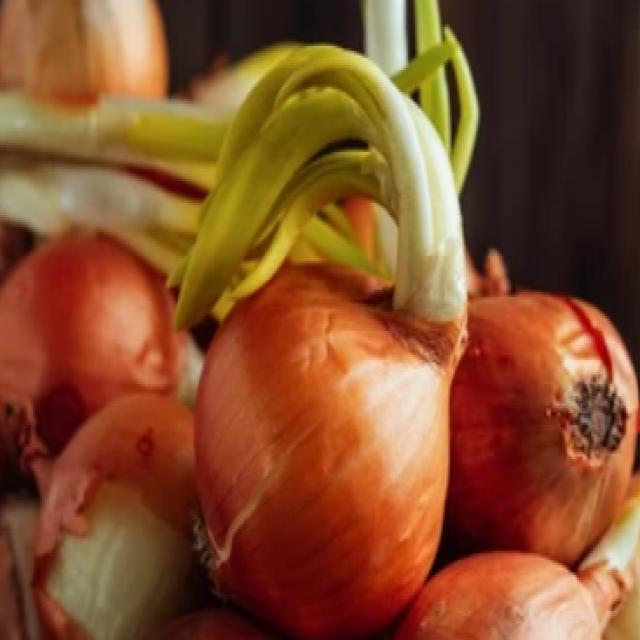sprouting: (314, 0, 484, 312)
